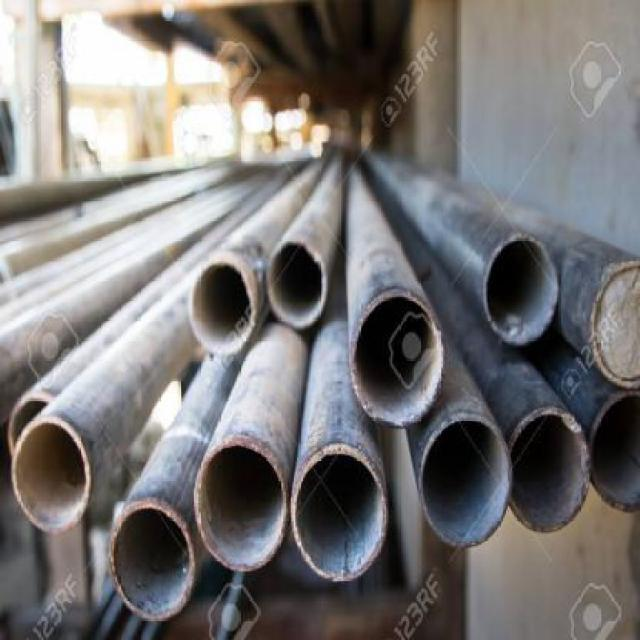pipe: (194, 434, 287, 573), (291, 449, 387, 582), (352, 294, 445, 428), (420, 415, 513, 548), (110, 497, 196, 623), (508, 408, 591, 533), (12, 417, 91, 534), (483, 234, 559, 345), (589, 255, 640, 388), (587, 389, 640, 513), (189, 260, 254, 354), (268, 240, 328, 329)
